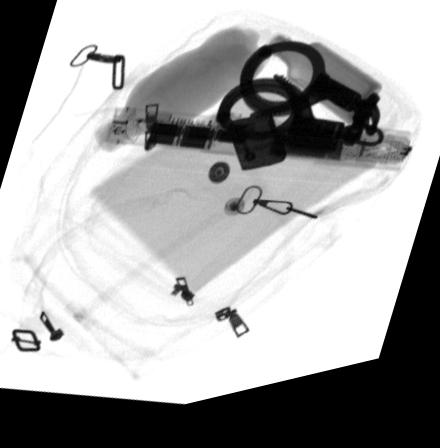Baton: (95, 113, 413, 192)
HandCuffs: (213, 56, 384, 166)
Lighter: (226, 124, 286, 184)
